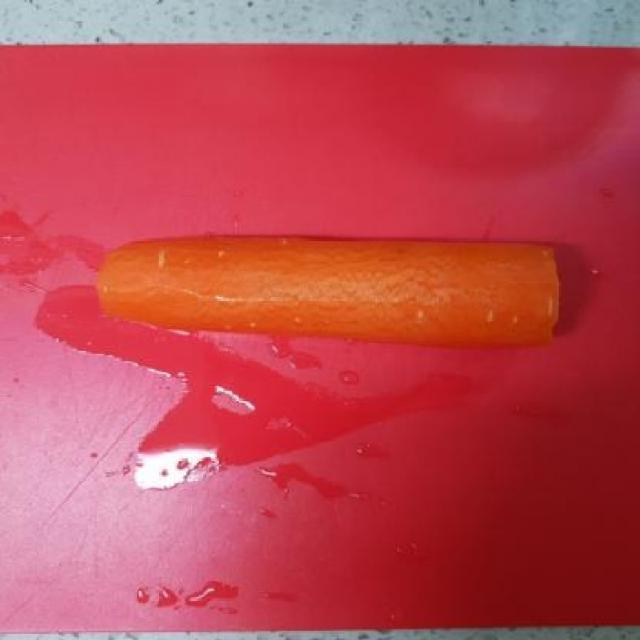Carrot: (98, 238, 560, 346)
